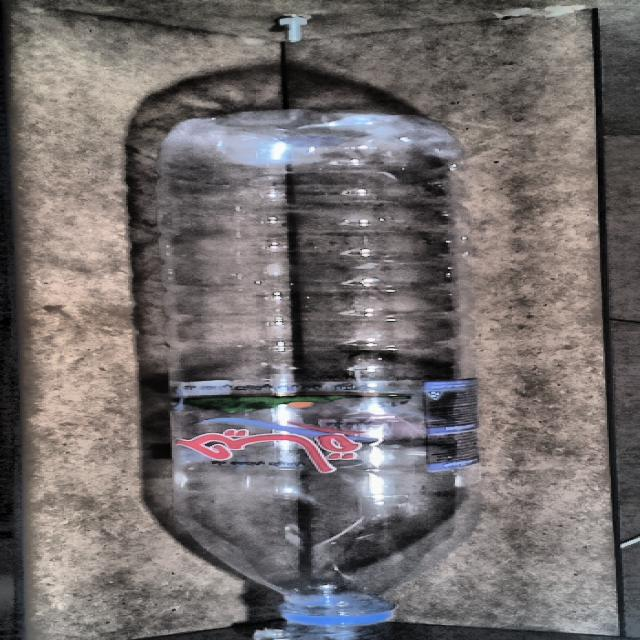plastic bottle: (157, 109, 479, 638)
